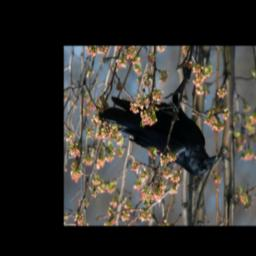Crow: (101, 69, 222, 179)
